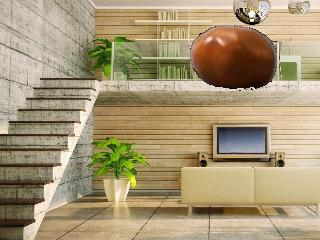potato: (189, 22, 282, 92)
